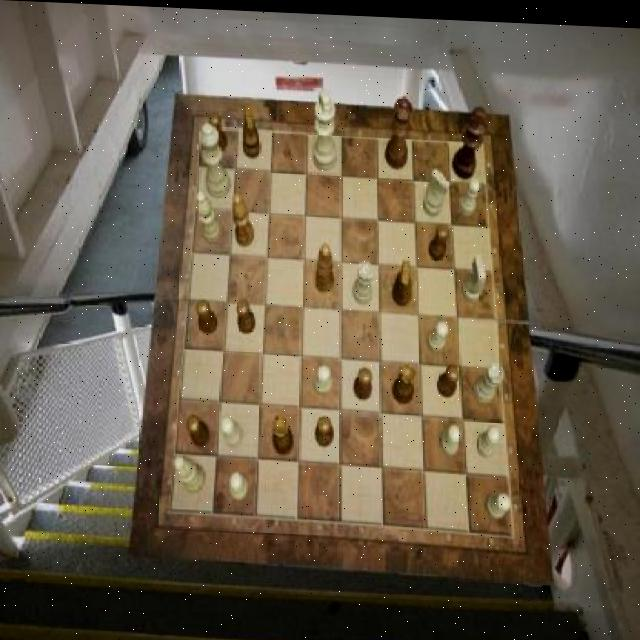bishop: (231, 190, 254, 244), (314, 240, 334, 290)
black-bishop: (451, 102, 486, 176)
black-king: (392, 257, 412, 303), (244, 103, 261, 157)
black-knight: (436, 360, 458, 395), (186, 413, 209, 446), (196, 298, 217, 333), (428, 221, 448, 256), (209, 111, 226, 150), (353, 363, 372, 397), (314, 412, 334, 444), (238, 297, 255, 332)
black-pawn: (383, 92, 411, 167)
black-queen: (392, 361, 416, 402), (272, 413, 292, 453)
black-rook: (197, 188, 221, 243), (172, 452, 205, 491)
white-bishop: (312, 86, 336, 168)
white-king: (422, 164, 450, 214), (462, 250, 486, 298)
white-knight: (457, 173, 480, 212), (476, 420, 500, 454), (425, 316, 448, 349), (220, 414, 243, 445), (484, 488, 510, 515), (441, 420, 462, 453), (228, 471, 248, 499), (315, 361, 332, 393)
white-pawn: (198, 121, 231, 196)
white-queen: (472, 359, 503, 401), (352, 258, 372, 303)
